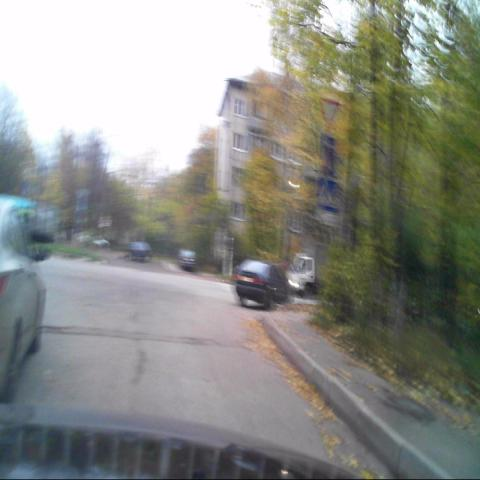5_22: (320, 135, 336, 175)
